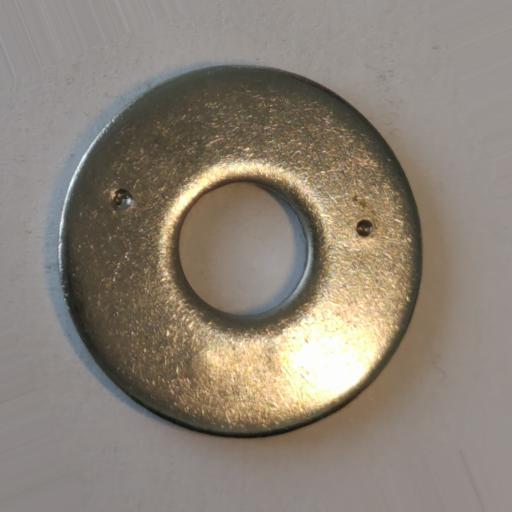circular_cavity: (111, 188, 133, 210), (355, 219, 373, 237)
